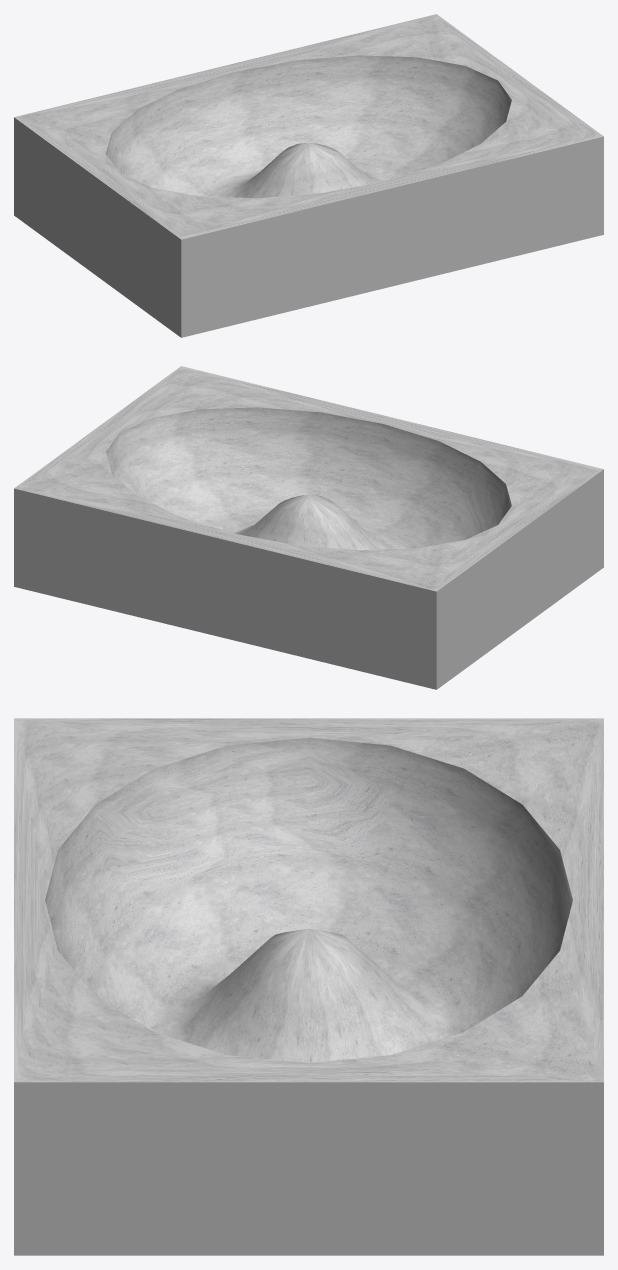
File: SkateP.obj
3 views of the same model, one above another, from view 1: azimuth 30°, elevation 25°; view 2: azimuth 150°, elevation 25°; view 3: azimuth 270°, elevation 25° (orthographic). The views are drawn at different scales.
Visible parts, largest first — view 1: polySurface2; view 2: polySurface2; view 3: polySurface2.
Part boxes in pixels (x1,y1,x2,y2): polySurface2: (14, 14, 603, 337); polySurface2: (14, 366, 603, 689); polySurface2: (14, 718, 603, 1255).
Size of the model in its own units: 8.97 by 1.99 by 6.15.
